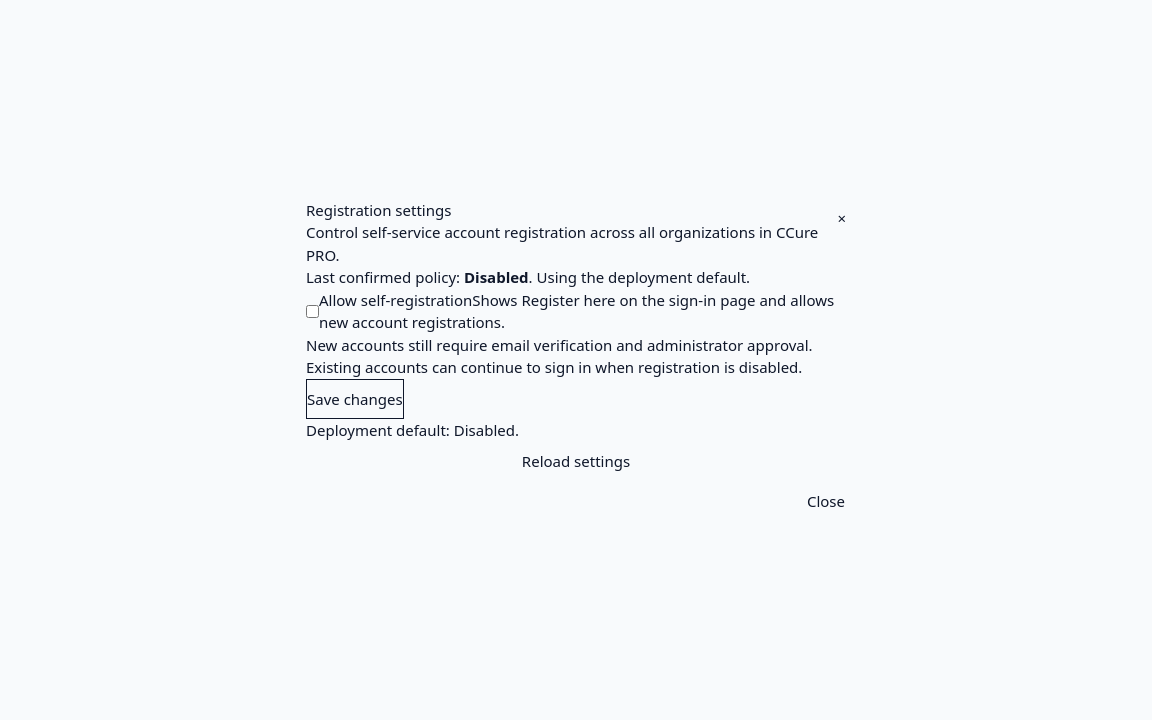
Test: Registration Settings › saves the requested value and revision, then shows the confirmed backend policy
Click the checkbox labelled "Allow self-registration".
click(312, 311)  # box [306,305,319,318]
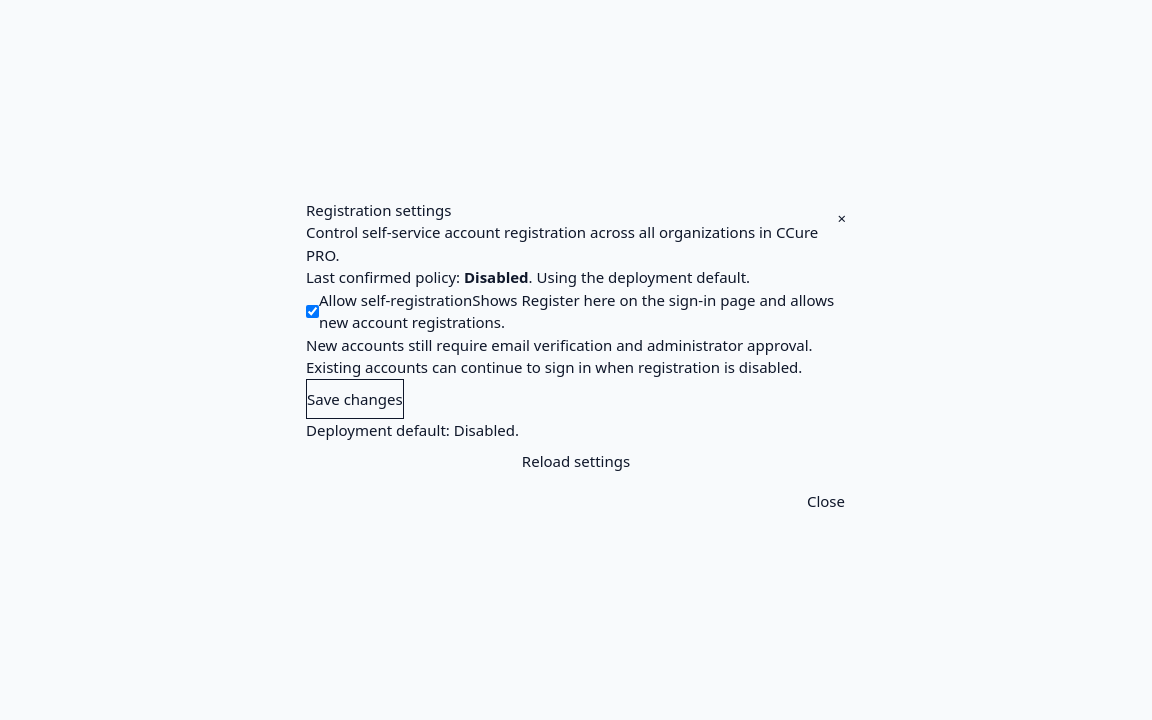
Expected: the text "Disabled" is shown, [464,267,529,287]
Click the button "Save changes".
click(355, 399)  # box [306,379,404,419]
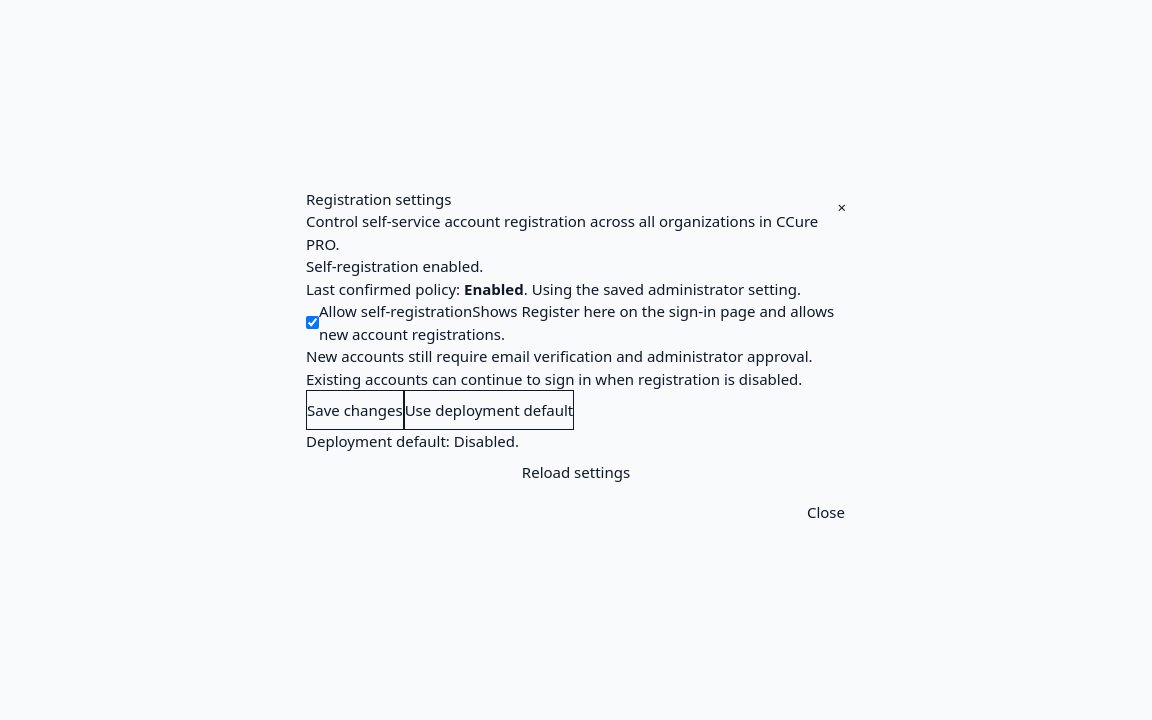
Now the text "Self-registration enabled." is shown, box [306,256,483,276]
Now the text "Enabled" is shown, box [464,278,524,298]
